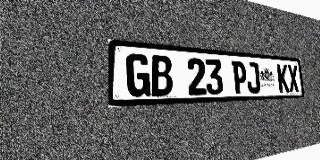2: (187, 57, 206, 95)
3: (205, 59, 223, 95)
B: (150, 55, 173, 96)
G: (126, 53, 151, 97)
J: (246, 62, 261, 93)
K: (277, 64, 289, 92)
P: (232, 61, 248, 94)
X: (287, 65, 299, 92)
